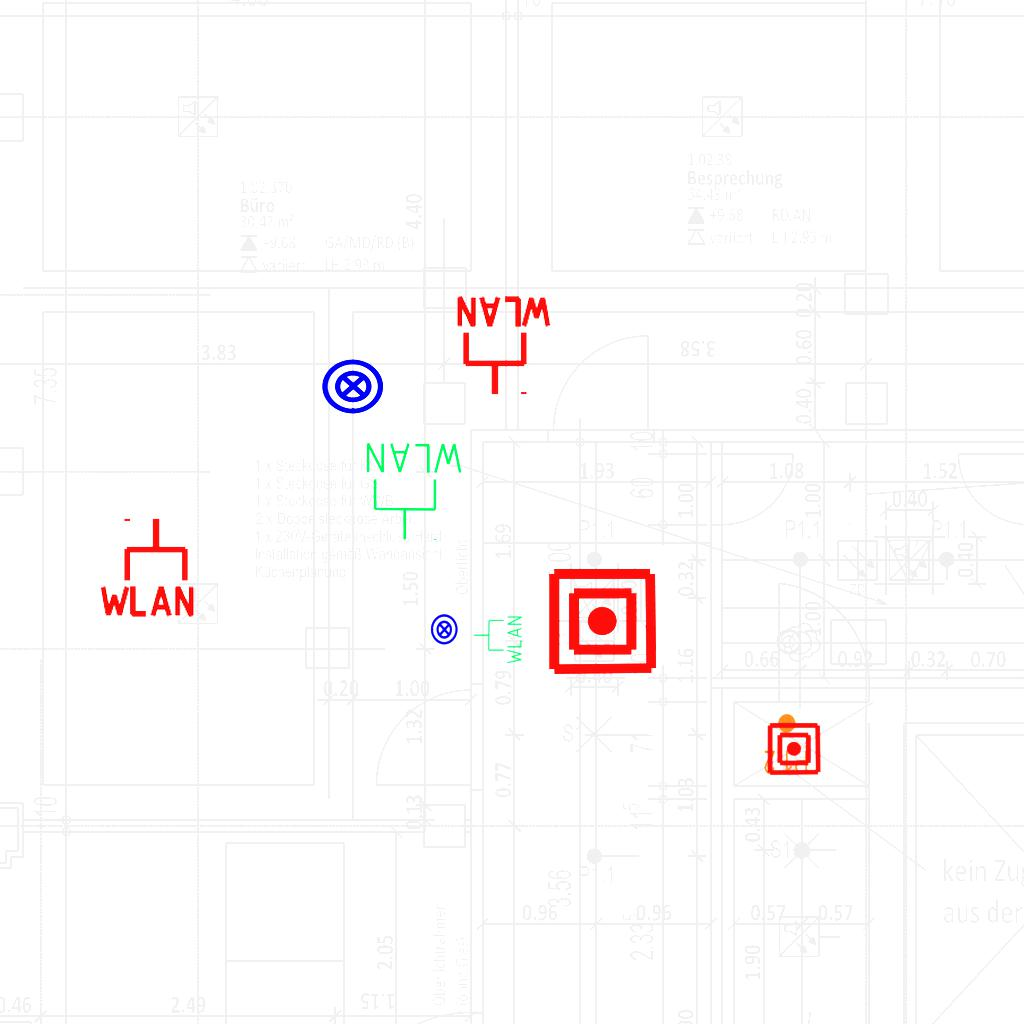Downlight_LED_Einbauleuchten_Flur: (763, 712, 809, 776)
NAM-Nichtautomatischer_Melder: (546, 565, 659, 678), (766, 721, 822, 777)
Taster_beleuchtet: (320, 353, 386, 419), (428, 613, 461, 646)
WLAN: (95, 514, 199, 619), (362, 439, 467, 543), (452, 294, 556, 399), (472, 614, 524, 666)
